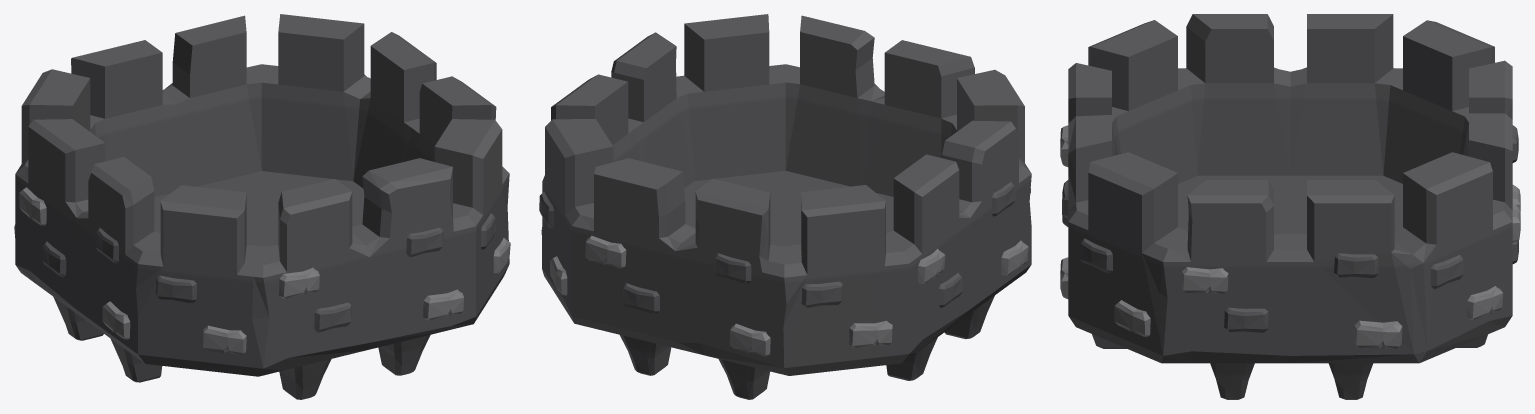
Rendered from SM_Bld_Castle_Tower_Top_01.gltf.
3 renders of one model, left to right at view 1: azimuth 30°, elevation 25°; view 2: azimuth 150°, elevation 25°; view 3: azimuth 270°, elevation 25°, orthographic. The views are drawn at different scales.
Parts seen in each view (by area): view 1: SM_Bld_Castle_Tower_Top_01; view 2: SM_Bld_Castle_Tower_Top_01; view 3: SM_Bld_Castle_Tower_Top_01.
Part boxes in pixels (<box>): SM_Bld_Castle_Tower_Top_01: <box>14,14,510,399</box>; SM_Bld_Castle_Tower_Top_01: <box>539,14,1031,399</box>; SM_Bld_Castle_Tower_Top_01: <box>1060,14,1520,399</box>.
Bounding box in the file's own units: 3.18 × 1.64 × 3.18.
1 material, 1 textured.
